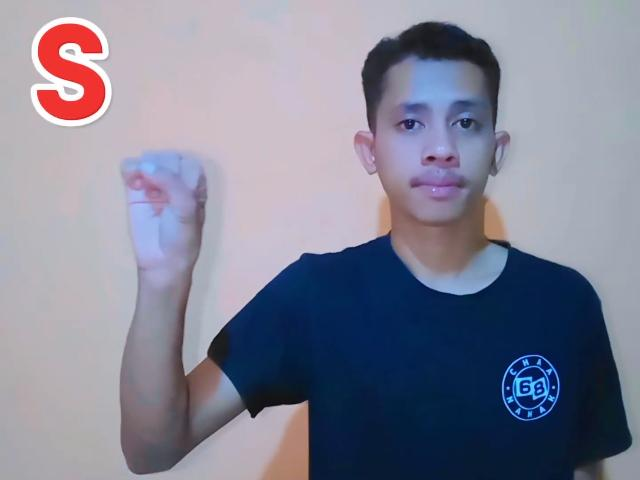S: (114, 141, 220, 271)
